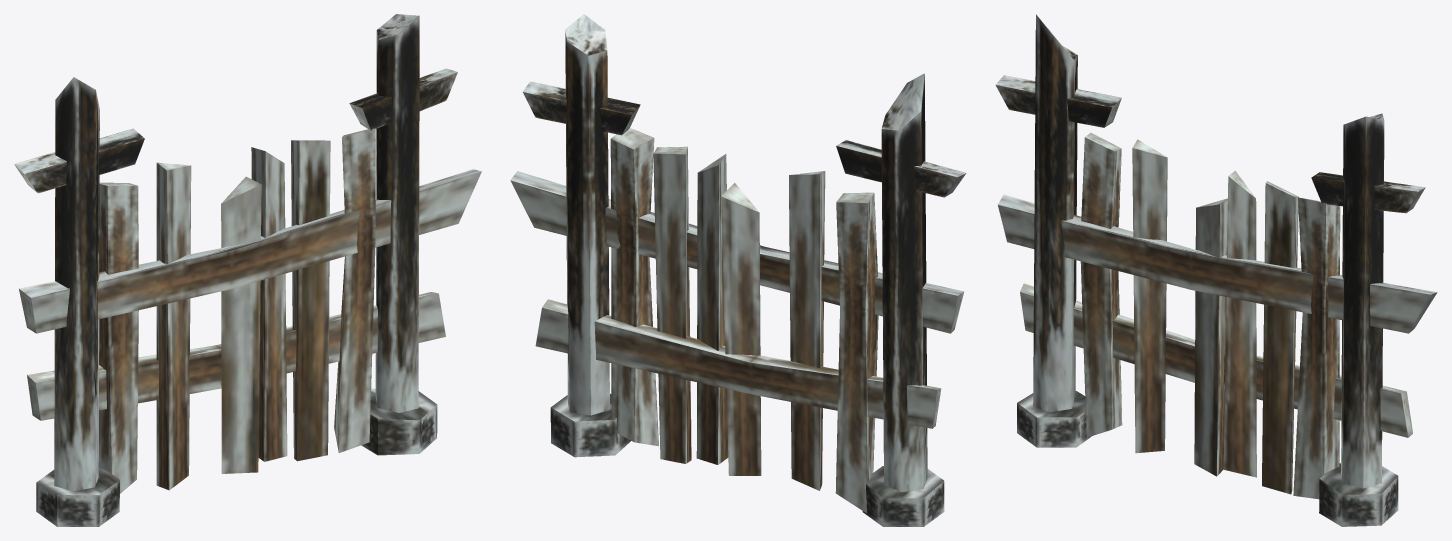
Rendered from S_Build_Snowland115.FBX.
3 views of the same model, side by side, from view 1: azimuth 30°, elevation 25°; view 2: azimuth 150°, elevation 25°; view 3: azimuth 330°, elevation 25° (orthographic). The views are drawn at different scales.
Visible parts, largest first — view 1: S_Build_Snowland115; view 2: S_Build_Snowland115; view 3: S_Build_Snowland115.
Part boxes in pixels (x1,y1,x2,y2): S_Build_Snowland115: (14,14,481,526); S_Build_Snowland115: (510,14,966,526); S_Build_Snowland115: (995,14,1437,526).
Size of the model in its own units: 534 by 84.72 by 501.
